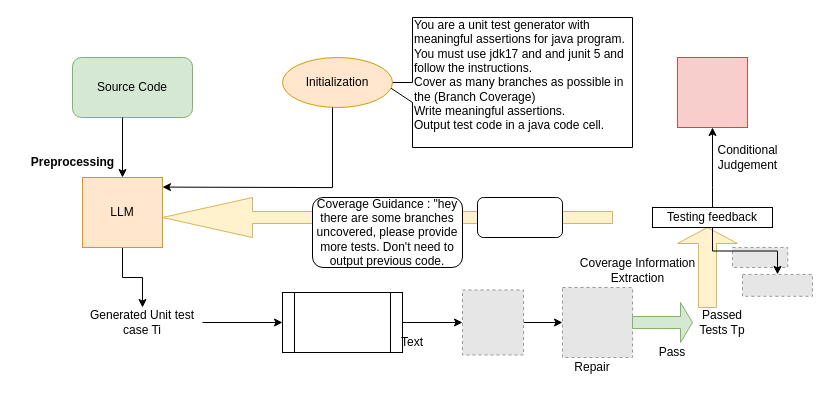
Some shapes in this 830 by 400 pixel diagram are drawn without their labels. Grey dashed boxes stand in for pictures. The shapes that lost their labels are listed below. From the top down, each one's centre as x and y in pixels, then its label:
[712,92]: Quality test case
[519,217]: Prompt injection with Tp
[342,322]: Compilation & Execution
